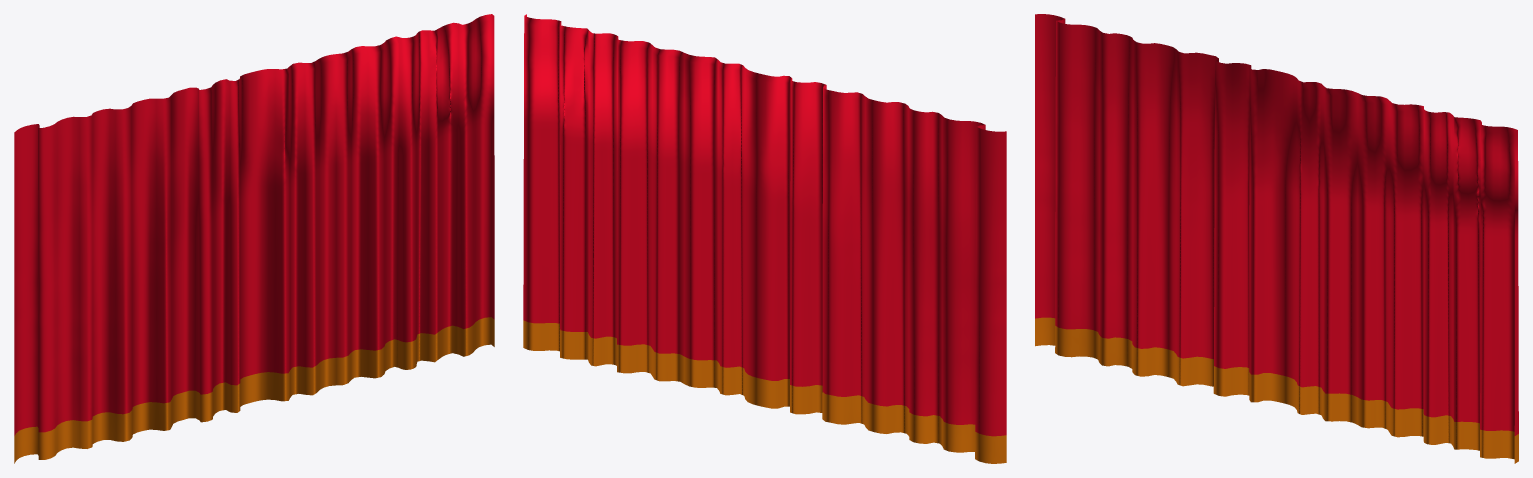
Rendered from Mesh_Curtains_Blend_Right.fbx.
3 views of the same model, side by side, from view 1: azimuth 30°, elevation 25°; view 2: azimuth 150°, elevation 25°; view 3: azimuth 330°, elevation 25° (orthographic).
Parts seen in each view (by area): view 1: Curtains_Blend_Shapes:RightCurtain_Blend; view 2: Curtains_Blend_Shapes:RightCurtain_Blend; view 3: Curtains_Blend_Shapes:RightCurtain_Blend.
Part boxes in pixels (x1=…): Curtains_Blend_Shapes:RightCurtain_Blend: x1=14, y1=14, x2=494, y2=463; Curtains_Blend_Shapes:RightCurtain_Blend: x1=523, y1=14, x2=1006, y2=463; Curtains_Blend_Shapes:RightCurtain_Blend: x1=1035, y1=14, x2=1518, y2=463.
Bounding box in the file's own units: 101 × 2647 × 1746.
